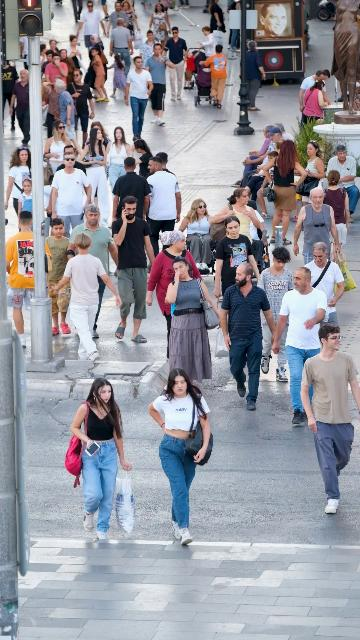person: (147, 367, 213, 546), (299, 322, 360, 514), (70, 377, 133, 542), (271, 266, 328, 427), (55, 233, 122, 363), (219, 263, 277, 410), (145, 230, 203, 360), (164, 255, 220, 384), (67, 204, 119, 340), (5, 210, 52, 348), (112, 196, 155, 343), (256, 247, 296, 384), (210, 187, 268, 272), (263, 139, 308, 247), (212, 216, 261, 301), (292, 187, 341, 266), (47, 152, 92, 238), (145, 156, 182, 257), (303, 242, 345, 325), (76, 130, 112, 226), (45, 218, 72, 336), (242, 126, 288, 195), (112, 156, 151, 230), (179, 198, 216, 274), (321, 169, 351, 260), (238, 151, 278, 219), (230, 124, 273, 187), (143, 43, 175, 126), (326, 145, 360, 223), (125, 56, 154, 141), (4, 146, 32, 230), (67, 68, 95, 147), (44, 120, 82, 172), (104, 127, 132, 191), (199, 45, 227, 109), (298, 69, 331, 123), (164, 27, 188, 101), (9, 69, 31, 147), (244, 40, 266, 111), (76, 0, 106, 51), (303, 139, 325, 207), (109, 18, 134, 77), (53, 78, 76, 140), (1, 54, 19, 130), (302, 80, 331, 127), (88, 45, 110, 103), (105, 50, 127, 100), (149, 2, 171, 51), (42, 78, 58, 140), (190, 26, 219, 60), (13, 178, 32, 229), (130, 139, 153, 180), (57, 146, 86, 176), (90, 34, 107, 81), (121, 0, 140, 42), (210, 0, 226, 39), (59, 49, 76, 83), (139, 30, 156, 57), (274, 122, 295, 142), (155, 152, 170, 174), (46, 39, 58, 55), (49, 75, 62, 86)
